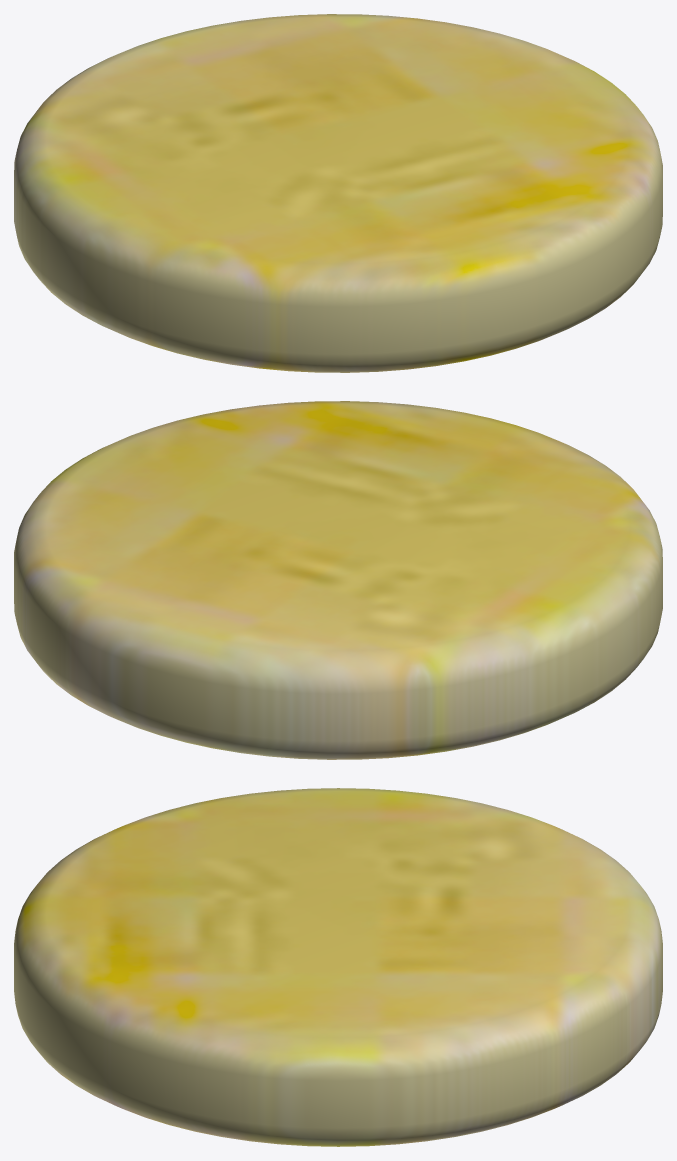
Rendered from aripiprazole.glb.
3 renders of one model, top to bottom at view 1: azimuth 30°, elevation 25°; view 2: azimuth 150°, elevation 25°; view 3: azimuth 270°, elevation 25°, orthographic.
Parts seen in each view (by area): view 1: 아리피프라졸; view 2: 아리피프라졸; view 3: 아리피프라졸.
Boxes of the visible parts, <box> form: 아리피프라졸: <box>14,14,662,372</box>; 아리피프라졸: <box>14,401,662,759</box>; 아리피프라졸: <box>14,788,662,1146</box>.
Bounding box in the file's own units: 1 × 0.18 × 1.
1 material, 1 textured.
